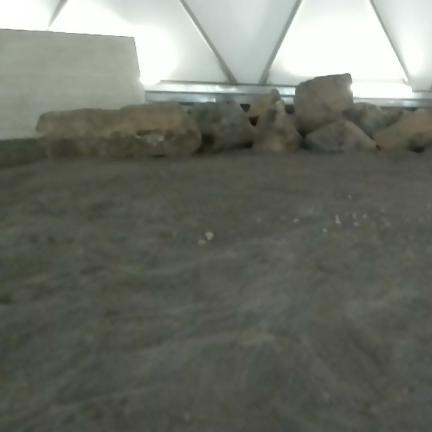Rock: (36, 102, 201, 158), (294, 74, 353, 133), (189, 102, 256, 152), (253, 100, 301, 152), (373, 109, 431, 152), (305, 120, 376, 152), (344, 103, 388, 137), (247, 89, 281, 125), (382, 108, 404, 126), (205, 232, 214, 241), (335, 215, 341, 224), (198, 239, 206, 245), (322, 228, 328, 233), (293, 218, 299, 223), (352, 213, 356, 220), (354, 222, 359, 226), (348, 195, 352, 199), (362, 215, 367, 218)
